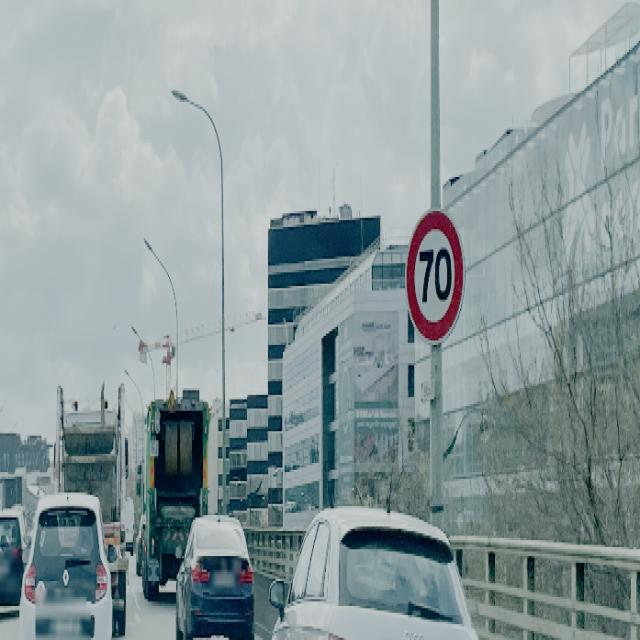speed_70: (404, 213, 464, 346)
